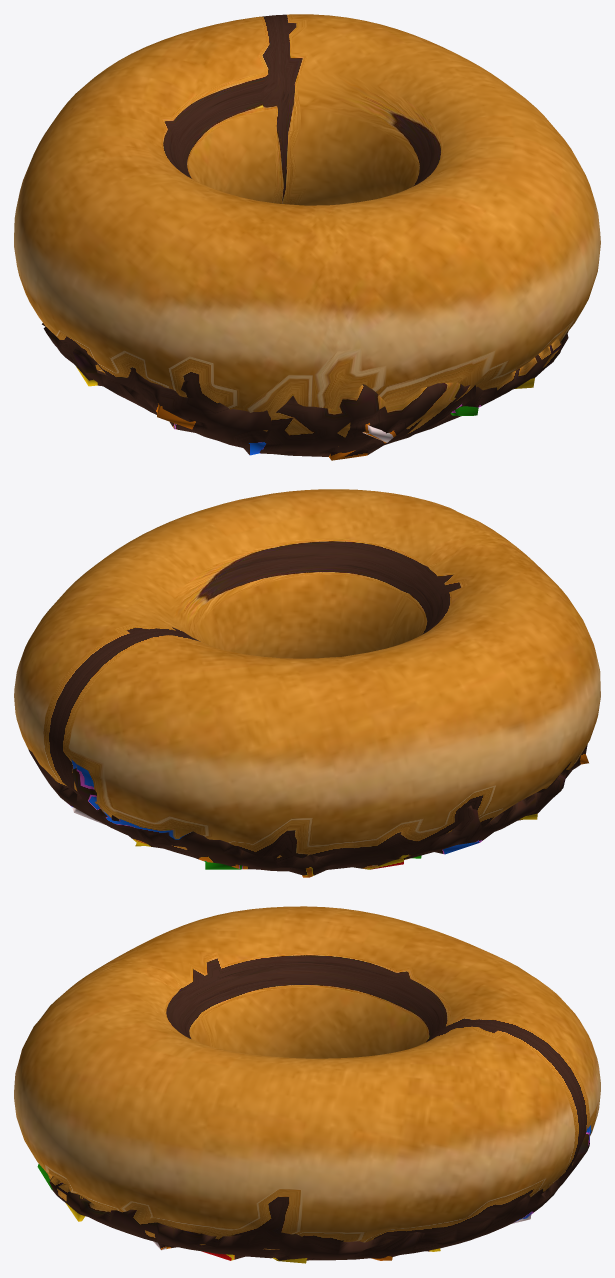
Rendered from food_prepared_donut_a01.glb.
3 views of the same model, one above another, from view 1: azimuth 30°, elevation 25°; view 2: azimuth 150°, elevation 25°; view 3: azimuth 270°, elevation 25° (orthographic). The views are drawn at different scales.
Visible parts, largest first — view 1: prop; view 2: prop; view 3: prop.
Part boxes in pixels (<box>): prop: <box>14,14,600,460</box>; prop: <box>14,489,600,877</box>; prop: <box>14,906,600,1263</box>.
Size of the model in its own units: 0.5433 by 0.2456 by 0.5921.
1 material, 1 textured.
